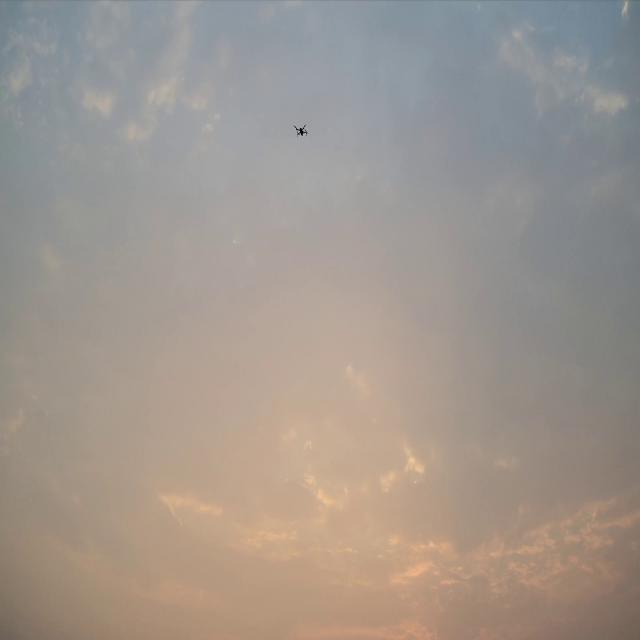UAV: (293, 124, 309, 136)
